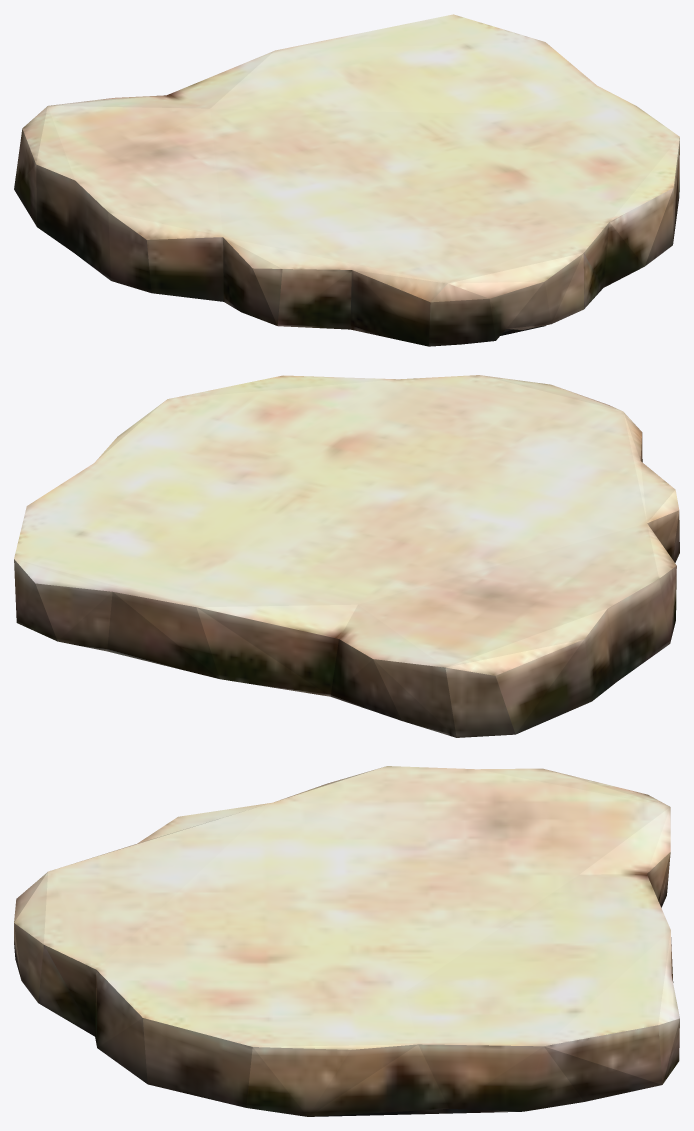
File: ga3_rock_c_lod0.glb
3 views of the same model, one above another, from view 1: azimuth 30°, elevation 25°; view 2: azimuth 150°, elevation 25°; view 3: azimuth 270°, elevation 25° (orthographic). The views are drawn at different scales.
Parts seen in each view (by area): view 1: ga3_rock_c_lod0; view 2: ga3_rock_c_lod0; view 3: ga3_rock_c_lod0.
Part boxes in pixels (x1,y1,x2,y2): ga3_rock_c_lod0: (14, 14, 679, 346); ga3_rock_c_lod0: (14, 375, 679, 737); ga3_rock_c_lod0: (14, 766, 679, 1116).
Bounding box in the file's own units: 0.9851 × 0.1277 × 0.9939.
1 material, 1 textured.
